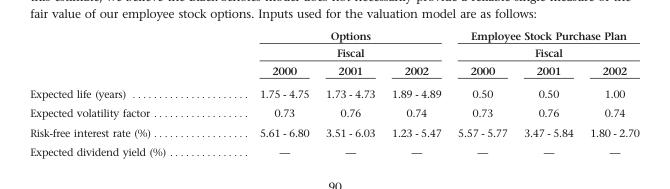table: (29, 28, 638, 157)
table column: (29, 28, 253, 157), (514, 28, 581, 157), (316, 28, 382, 157), (382, 28, 448, 157), (448, 28, 514, 157), (253, 28, 316, 157), (581, 28, 638, 157)
table column header: (29, 28, 638, 81)
table row: (29, 28, 638, 61), (29, 81, 638, 103), (29, 61, 638, 81), (29, 103, 638, 122), (29, 122, 638, 141), (29, 141, 638, 157)
table spanning cell: (253, 28, 448, 61), (448, 28, 638, 61)
